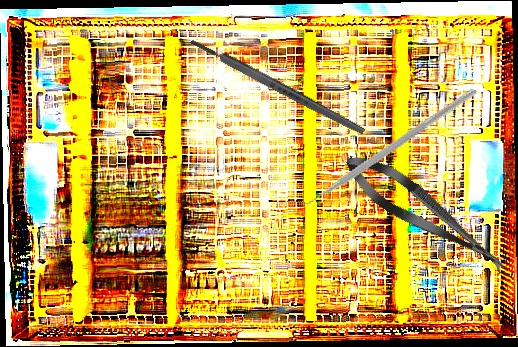Chopper: (288, 38, 478, 253)
Micro Scissor: (336, 143, 516, 285)
Scalpel Handle: (188, 35, 367, 138)
